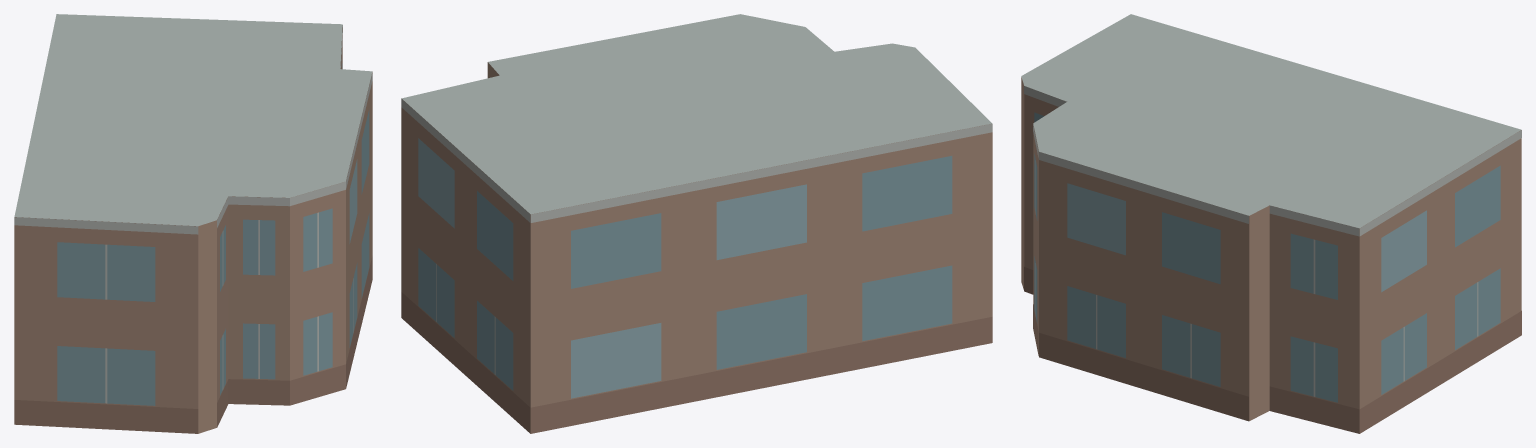
The model's file is survey-upis-32723977.glb.
3 views of the same model, side by side, from view 1: azimuth 30°, elevation 25°; view 2: azimuth 150°, elevation 25°; view 3: azimuth 270°, elevation 25° (orthographic). The views are drawn at different scales.
Visible parts, largest first — view 1: survey-upis-32723977.tmp; view 2: survey-upis-32723977.tmp; view 3: survey-upis-32723977.tmp.
Boxes of the visible parts, x1,y1,x2,y2 form: survey-upis-32723977.tmp: (14,14,372,433); survey-upis-32723977.tmp: (401,14,992,433); survey-upis-32723977.tmp: (1021,14,1521,433).
Size of the model in its own units: 13.65 by 6.1 by 13.48.
